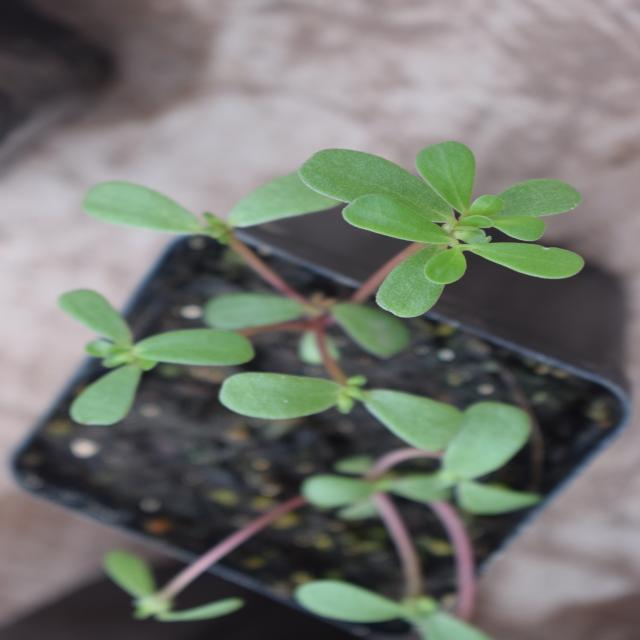purslane: (204, 70, 518, 594)
